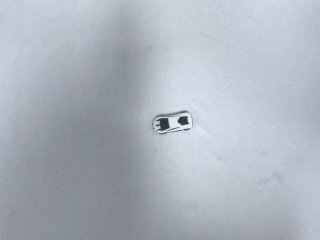toy_car: (152, 112, 193, 134)
